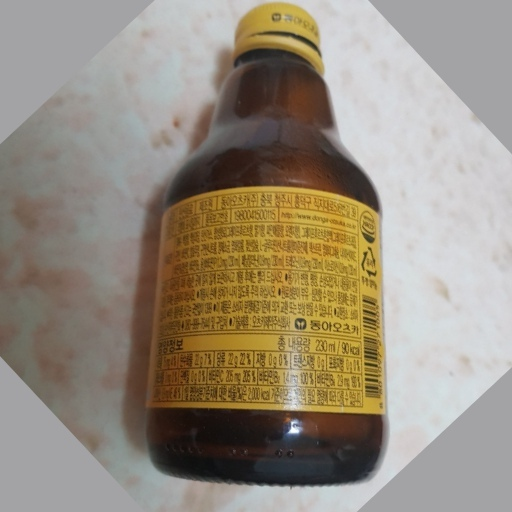Glass_3: (134, 4, 389, 486)
